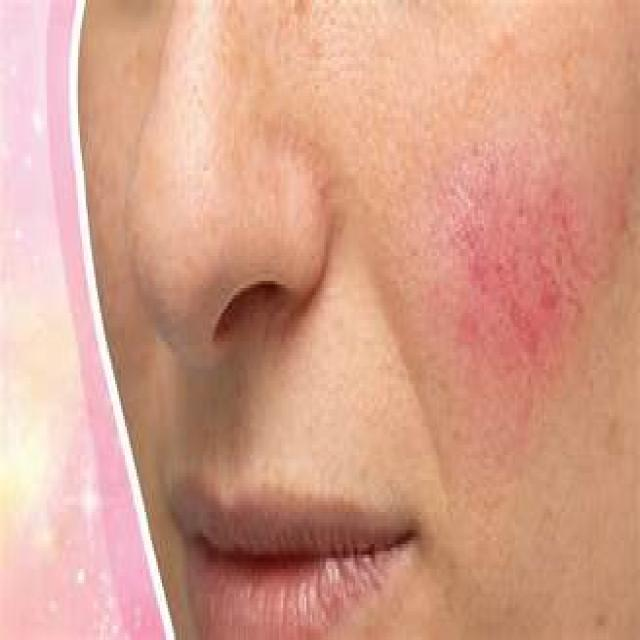Rosacea: (453, 168, 586, 388)
